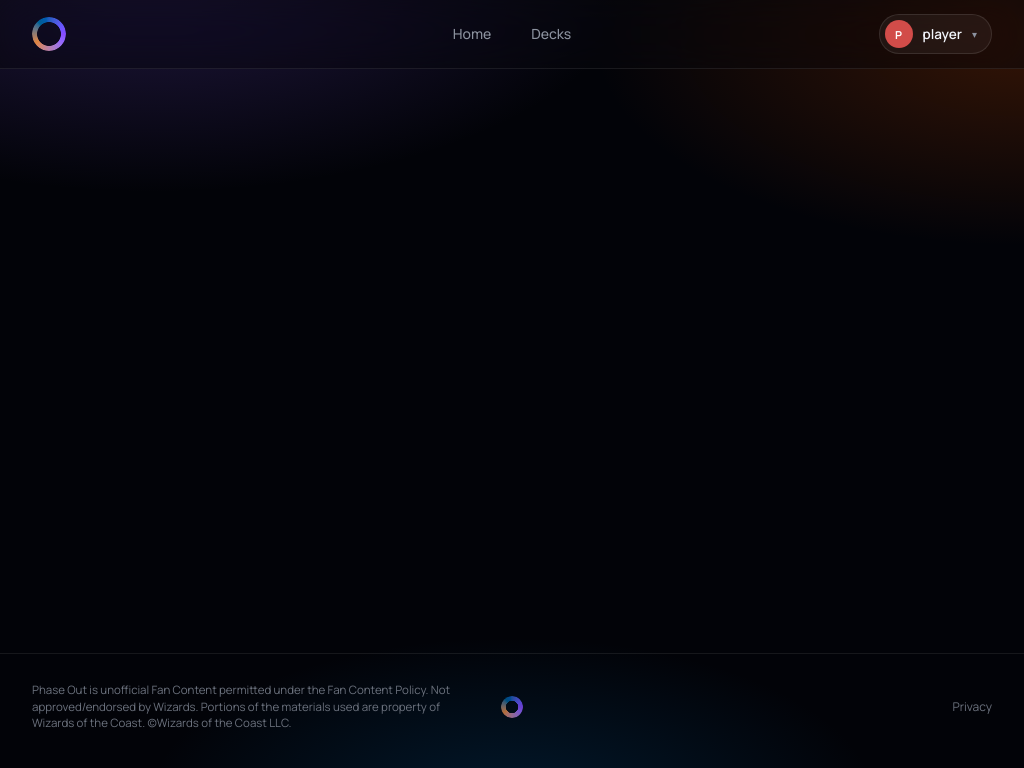
ShellComponent › shuts the menu on a click anywhere else
The image size is (1024, 768).
Click the button "P player ▾": (935, 34) [878,14,992,54]
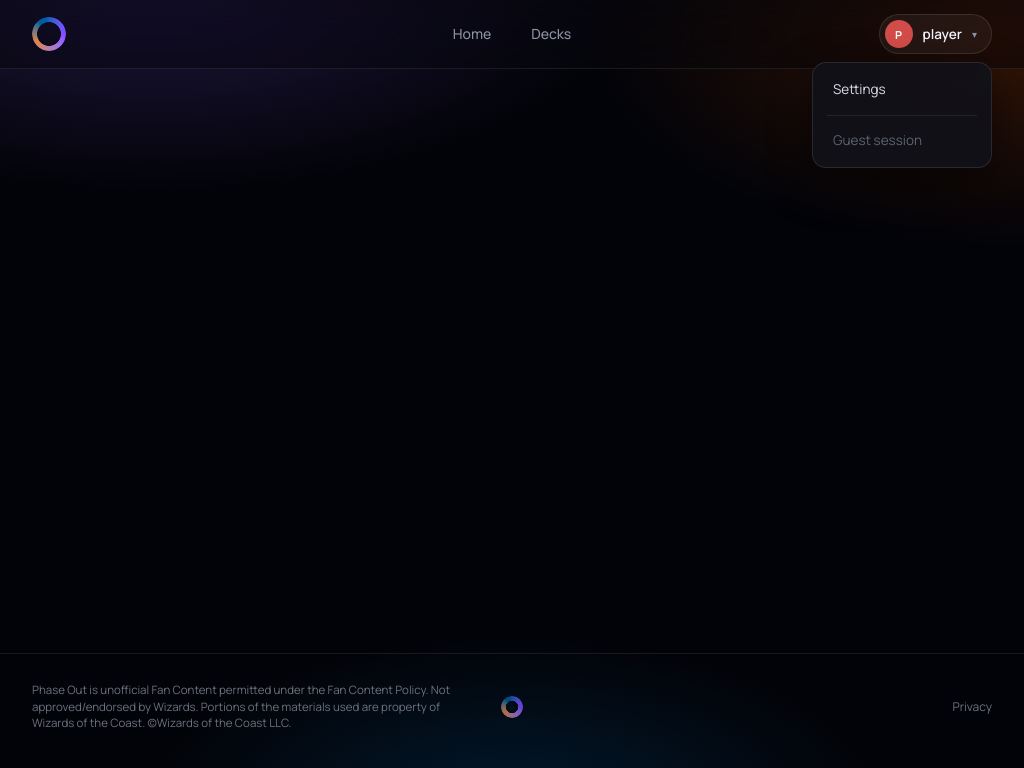
Expected: the element with class "menu" is shown, [812,62,992,168]
Click the element showing "Home Decks P player ▾ Settings Guest session": (512, 384) [0,0,1023,767]
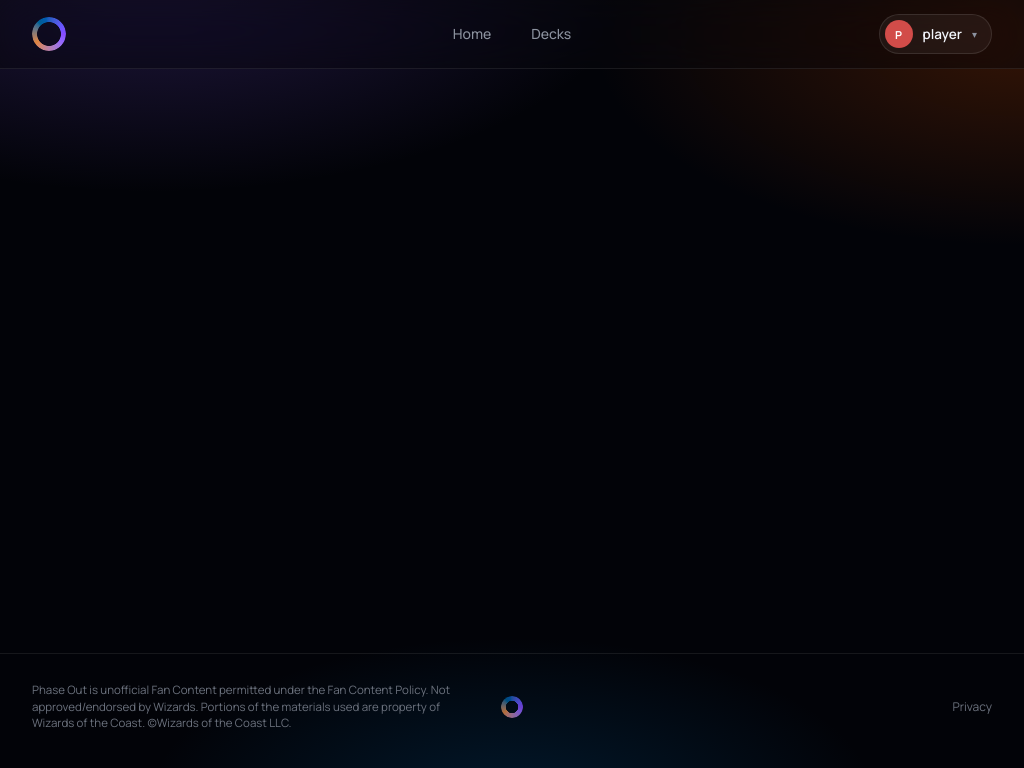
Expected: the element with class "menu" is gone
